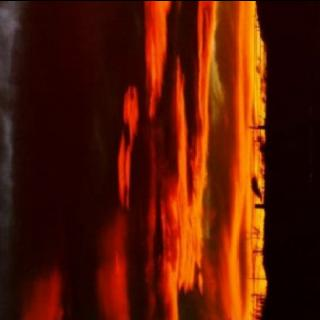Altostratus: (0, 0, 251, 314)
